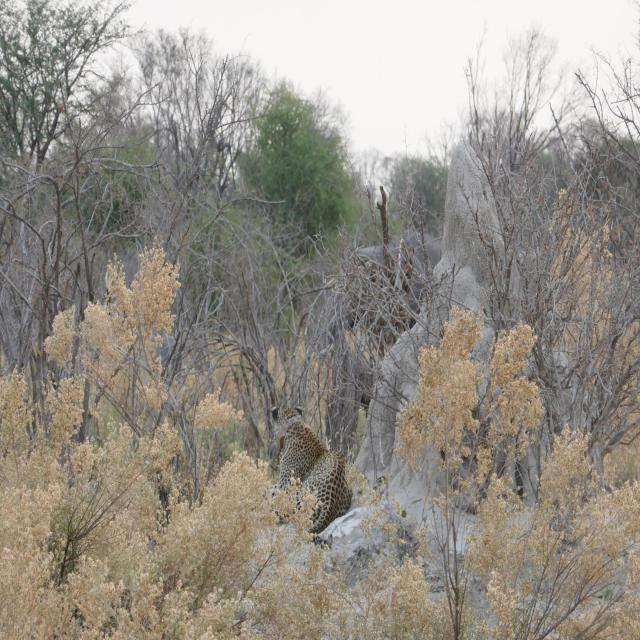Leopard: (266, 406, 356, 544)
